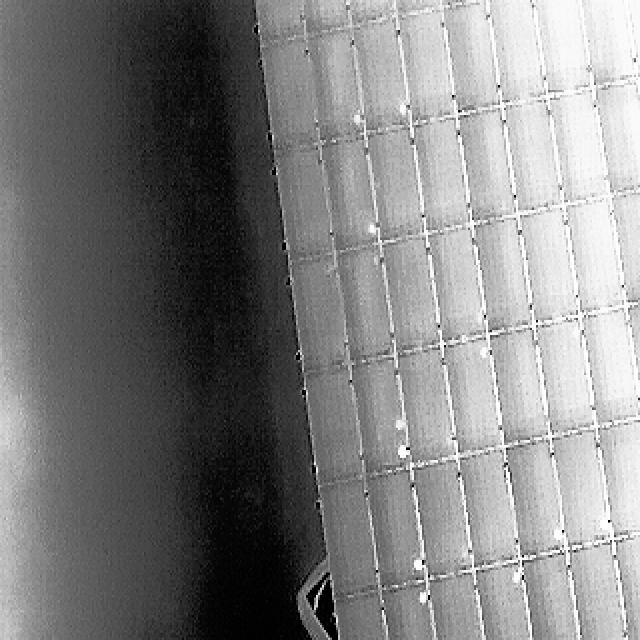Hotspots: (589, 510, 610, 539), (349, 109, 365, 138), (411, 555, 428, 580), (549, 523, 566, 548), (396, 440, 414, 462), (364, 219, 379, 245), (391, 103, 411, 120), (566, 635, 584, 640), (638, 500, 640, 532)
PV-modules: (346, 352, 414, 480), (378, 232, 447, 355), (546, 426, 614, 550), (316, 478, 384, 602), (394, 346, 462, 470), (560, 192, 629, 314), (533, 316, 602, 438), (456, 447, 524, 570), (436, 333, 504, 456), (408, 457, 476, 580), (500, 438, 568, 560), (485, 323, 553, 445), (422, 225, 490, 347), (498, 96, 567, 216), (454, 104, 523, 224), (361, 470, 427, 595), (544, 85, 612, 206), (470, 215, 537, 337), (518, 208, 586, 328), (333, 240, 398, 364), (574, 303, 640, 425), (304, 364, 370, 486), (259, 36, 328, 152), (285, 251, 350, 374), (435, 1, 503, 118), (349, 12, 413, 136), (394, 9, 461, 127), (361, 130, 428, 248), (408, 114, 474, 233), (306, 23, 370, 144), (272, 144, 337, 262), (320, 137, 384, 256), (484, 0, 552, 104), (562, 537, 630, 640), (518, 550, 588, 640), (532, 0, 596, 95), (588, 80, 640, 195), (596, 415, 640, 543), (577, 0, 639, 89), (472, 562, 540, 640), (420, 570, 492, 640), (378, 577, 450, 640), (606, 182, 640, 302), (610, 525, 640, 640), (332, 590, 398, 640), (622, 295, 640, 417), (622, 0, 640, 78), (638, 408, 640, 530), (638, 65, 640, 187)
